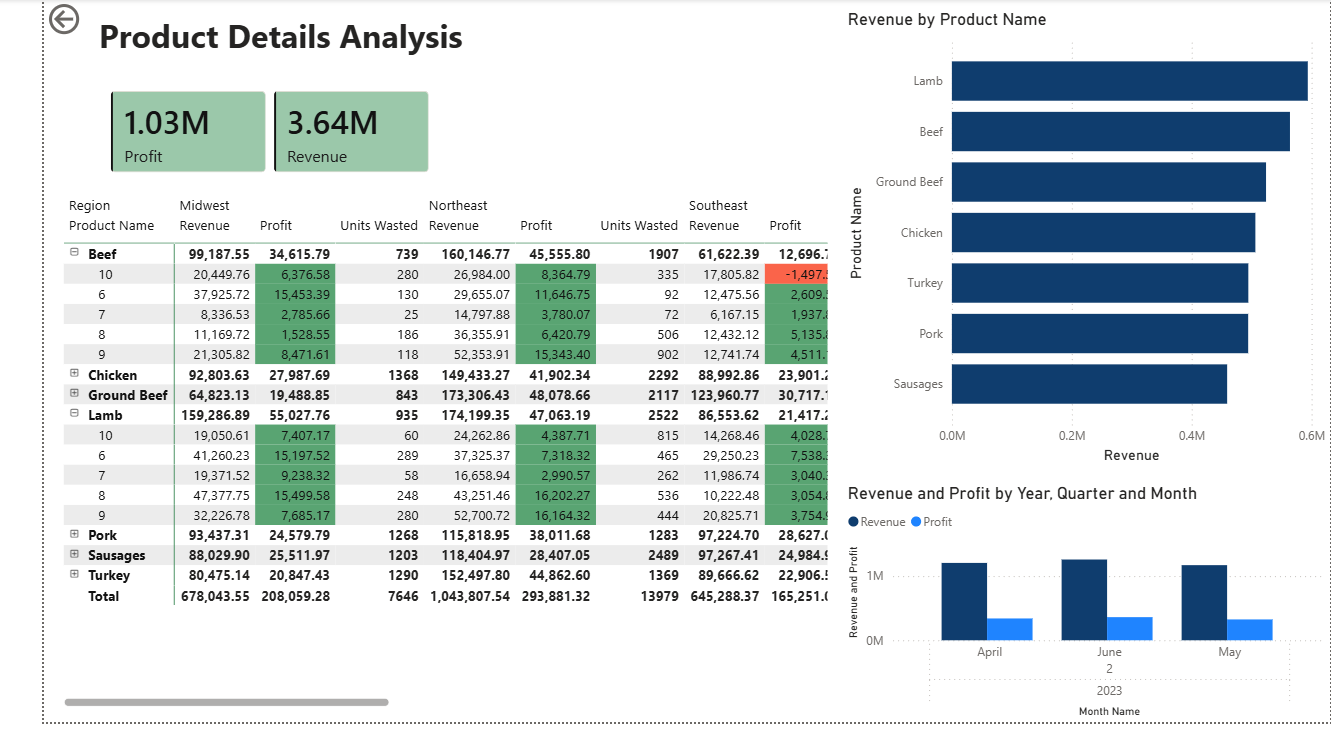

Layout of this report page (visuals, bound fields, positions):
{"tool":"powerbi","page":{"name":"Product Details ","canvas":[1280,720],"ordinal":1},"visuals":[{"type":"clusteredColumnChart","title":"Revenue and Profit by Year, Quarter and Month ","fields":{"Category":["Dim Date.Date Hierarchy.Year","Dim Date.Date Hierarchy.Quarter","Dim Date.Date Hierarchy.Month Name","Dim Date.Date Hierarchy.Day"],"Y":["Fact Transaction.Revenue","Fact Transaction.Profit"]},"box":[794.5,481.6,485.8,238.8],"z":0},{"type":"pivotTable","fields":{"Rows":["Dim Product.Product Name","Dim Supplier.Supplier Score"],"Columns":["Dim Store.Region"],"Values":["Fact Transaction.Revenue","Fact Transaction.Profit","Fact Transaction.Units Wasted"]},"box":[15.1,189.4,769.8,520.1],"z":1000},{"type":"actionButton","box":[0,0,100,40],"z":2000},{"type":"textbox","box":[49.8,10,454,64.7],"z":3000},{"type":"cardVisual","fields":{"Data":["Fact Transaction.Profit","Fact Transaction.Revenue"]},"box":[49.4,74.1,351.3,115.3],"z":4000},{"type":"clusteredBarChart","fields":{"Category":["Dim Product.Product Name"],"Y":["Fact Transaction.Revenue"]},"box":[794.5,9.6,485.8,456.9],"z":5000}]}

Visuals, with their boxes in screenshot pixels (x1, y1, x2, y2), scaled from the page's 1280x720 canvas onto the 1331x732 screenshot:
"Revenue and Profit by Year, Quarter and Month " clusteredColumnChart: [826,490,1330,731]
pivotTable - Dim Product.Product Name x Dim Supplier.Supplier Score: [16,193,816,721]
actionButton: [0,0,104,41]
textbox: [52,10,524,76]
cardVisual - Fact Transaction.Profit x Fact Transaction.Revenue: [51,75,417,193]
clusteredBarChart - Dim Product.Product Name x Fact Transaction.Revenue: [826,10,1330,474]
